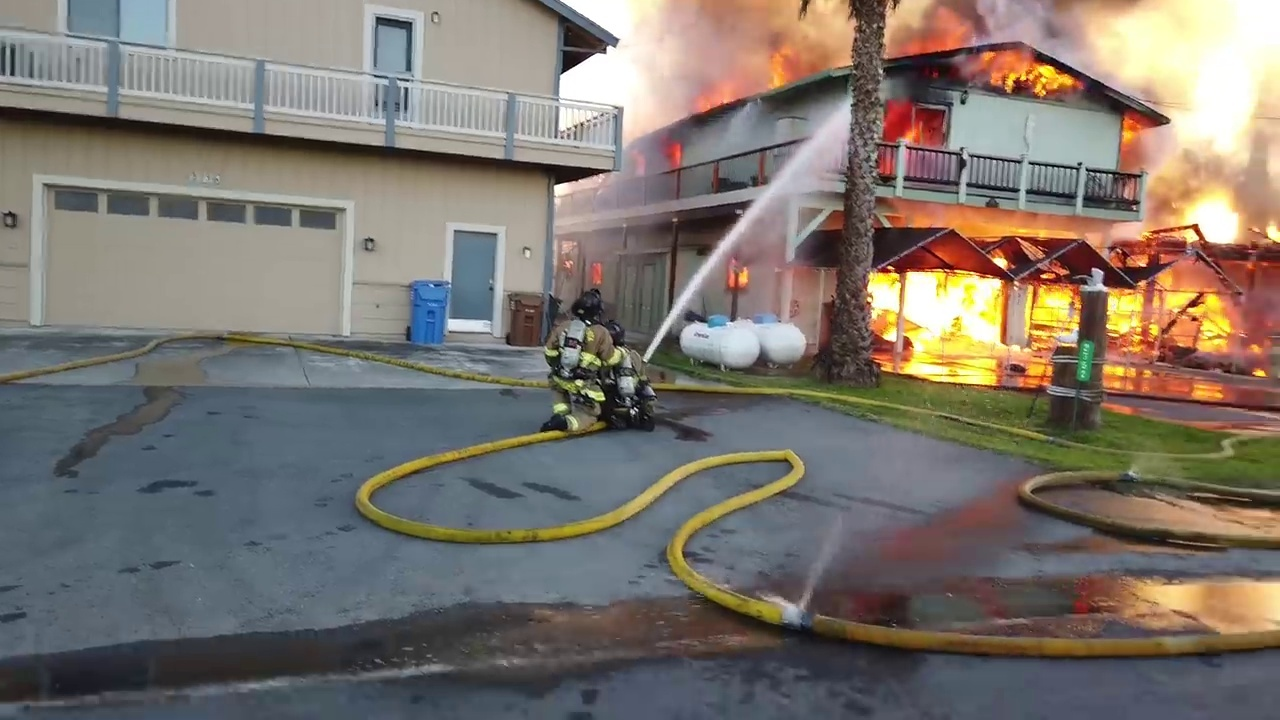fire: (869, 252, 1083, 350), (1110, 252, 1264, 377), (988, 51, 1080, 99), (1182, 193, 1242, 246), (758, 37, 795, 89), (657, 127, 687, 167), (622, 148, 654, 174), (1260, 215, 1279, 242)
smoke: (1102, 2, 1278, 218), (610, 1, 759, 113), (884, 2, 964, 142), (558, 184, 683, 249)
